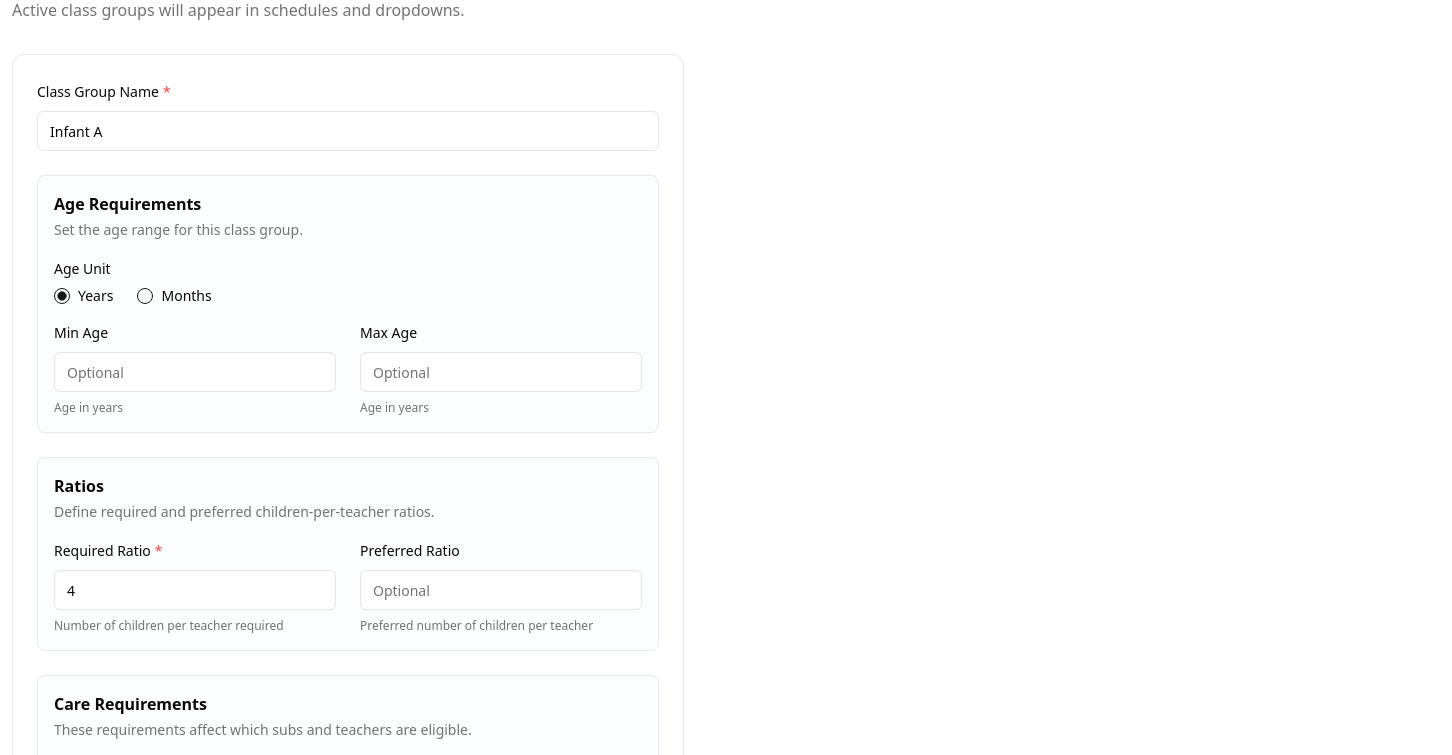
Test: ClassGroupForm (edit) › shows backend error message when update fails
Replace the text in the field showing "Infant A" with "Infant A Updated" at (348, 131), box [37,111,659,151]
(page scrolled)
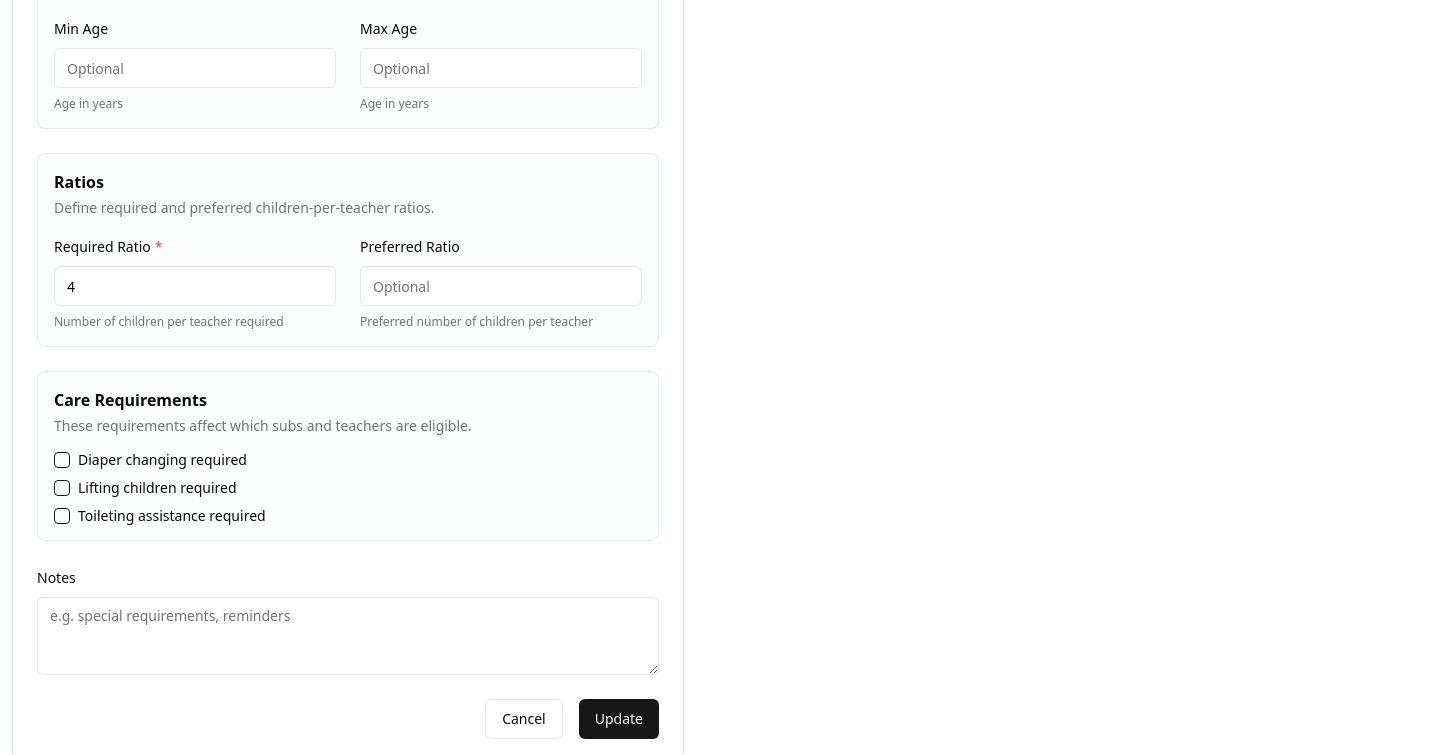
Click the button "Update".
click(619, 719)  # box [579,699,659,739]
(page scrolled)
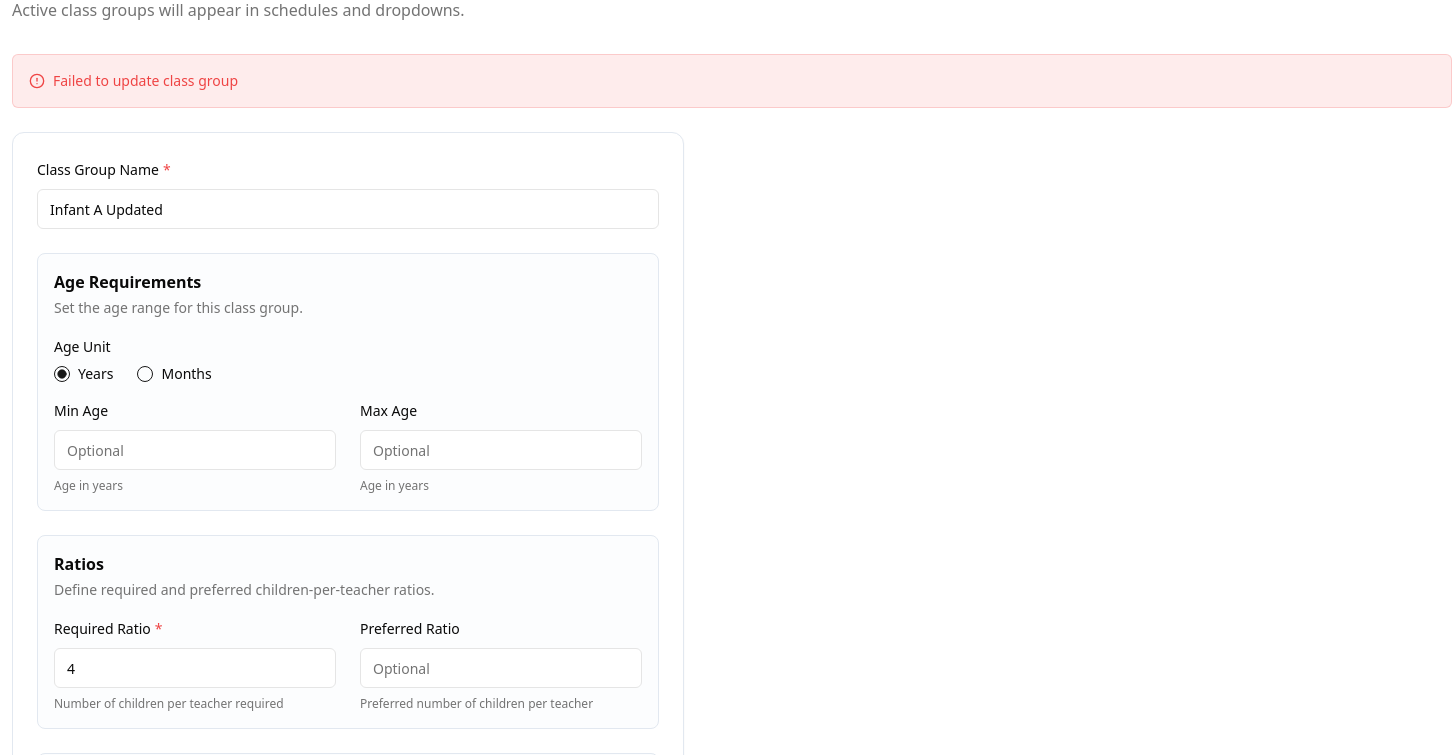
Now the text "Failed to update class group" is shown, box [53,71,238,91]
